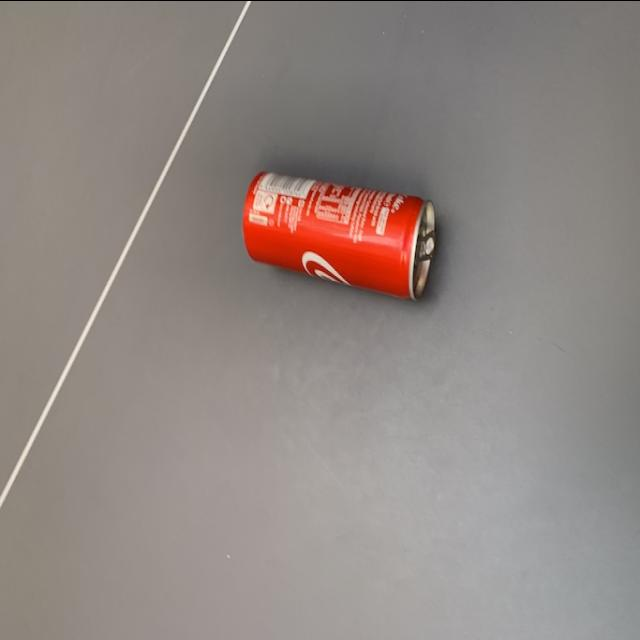Aluminum Can: (238, 164, 447, 298)
